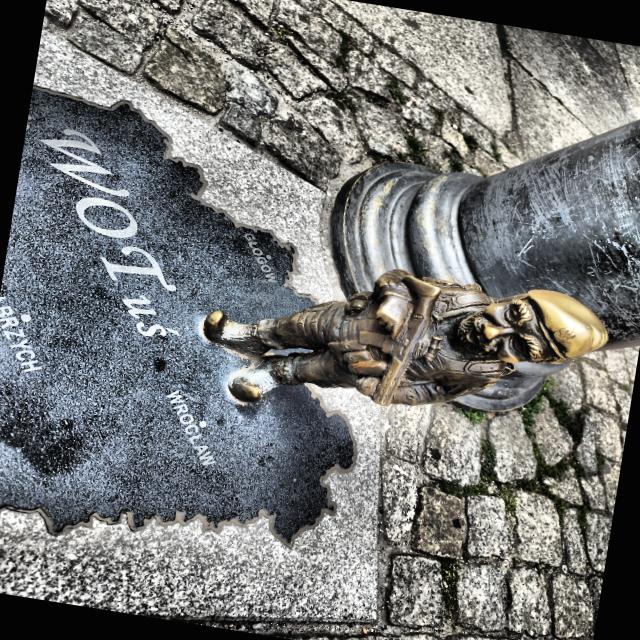WOTus: (202, 269, 608, 406)
